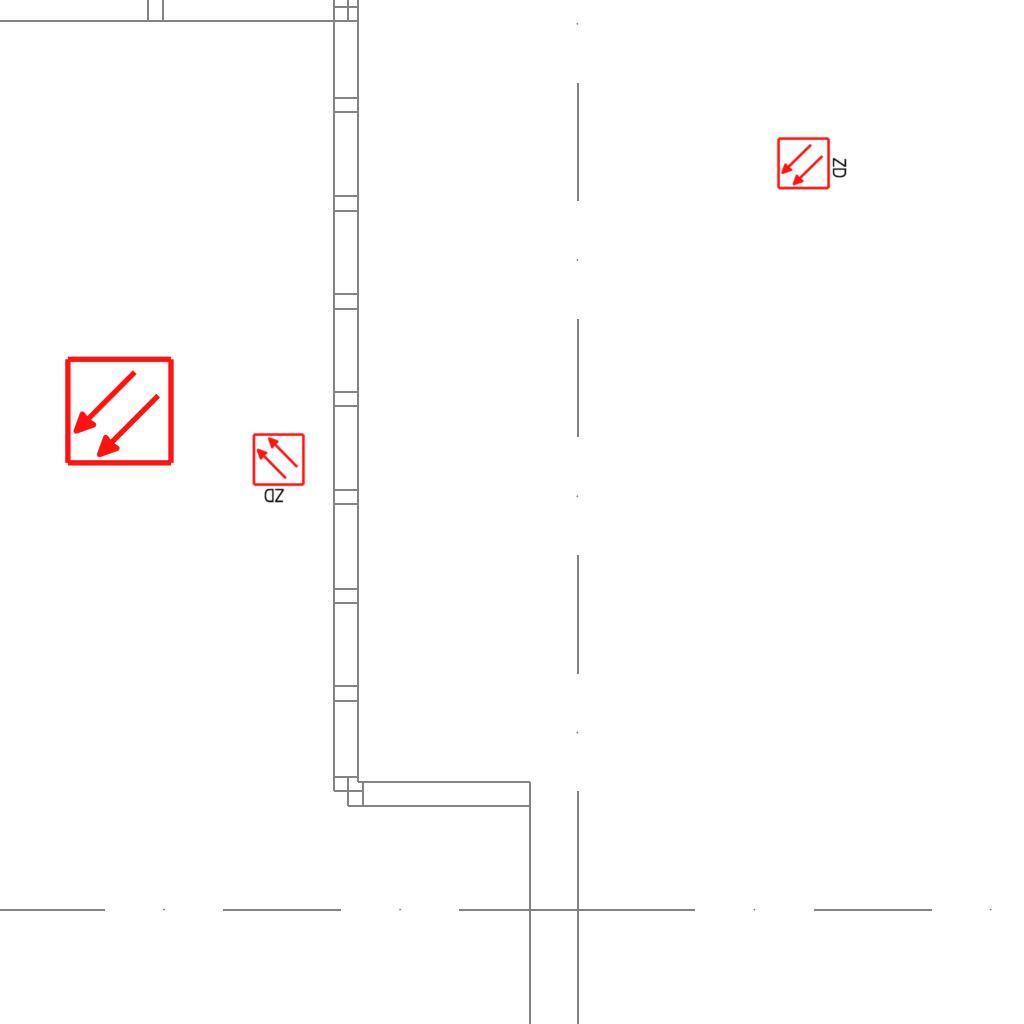RMO_Rauchmelder_optischer: (63, 355, 176, 468)
ZD_Melder_in_Zwischendecke_mit_Revisionsoeffnung_mind_40_x_40_cm: (251, 432, 308, 506), (776, 134, 850, 191)
